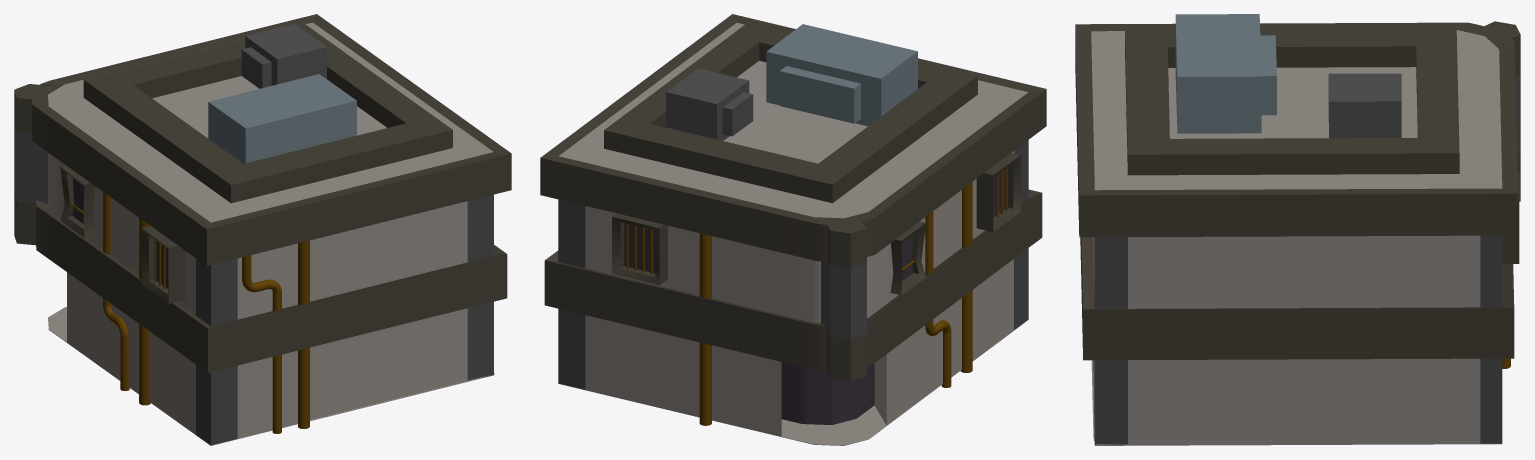
File: 48_building7.fbx
3 views of the same model, side by side, from view 1: azimuth 30°, elevation 25°; view 2: azimuth 150°, elevation 25°; view 3: azimuth 270°, elevation 25° (orthographic). The views are drawn at different scales.
Parts seen in each view (by area): view 1: Buildings1:pCube31group1group2, pCube106, pCube107, pCube101, pCube109, pCylinder329, pCylinder330, pCylinder332, pCylinder331; view 2: Buildings1:pCube31group1group2, pCube106, pCube107, pCube110, pCube101, pCube109, pCylinder328, pCylinder331, pCylinder332; view 3: Buildings1:pCube31group1group2, pCube106, pCube107, pCube110.
Boxes of the visible parts, <box> form: Buildings1:pCube31group1group2: <box>14,14,511,445</box>; pCube106: <box>208,74,356,163</box>; pCube107: <box>241,24,326,88</box>; pCube101: <box>141,226,185,303</box>; pCube109: <box>60,165,95,237</box>; pCylinder329: <box>298,240,309,428</box>; pCylinder330: <box>242,255,281,433</box>; pCylinder332: <box>102,192,129,390</box>; pCylinder331: <box>139,218,150,405</box>; Buildings1:pCube31group1group2: <box>540,14,1046,445</box>; pCube106: <box>766,24,917,126</box>; pCube107: <box>666,68,753,140</box>; pCube110: <box>612,213,667,285</box>; pCube101: <box>976,153,1020,232</box>; pCube109: <box>890,221,925,295</box>; pCylinder328: <box>699,233,711,425</box>; pCylinder331: <box>960,182,972,372</box>; pCylinder332: <box>925,211,951,387</box>; Buildings1:pCube31group1group2: <box>1075,21,1520,445</box>; pCube106: <box>1175,14,1276,133</box>; pCube107: <box>1328,73,1401,138</box>; pCube110: <box>1502,174,1519,263</box>.
Bounding box in the file's own units: 4.92 × 4.15 × 5.29.
